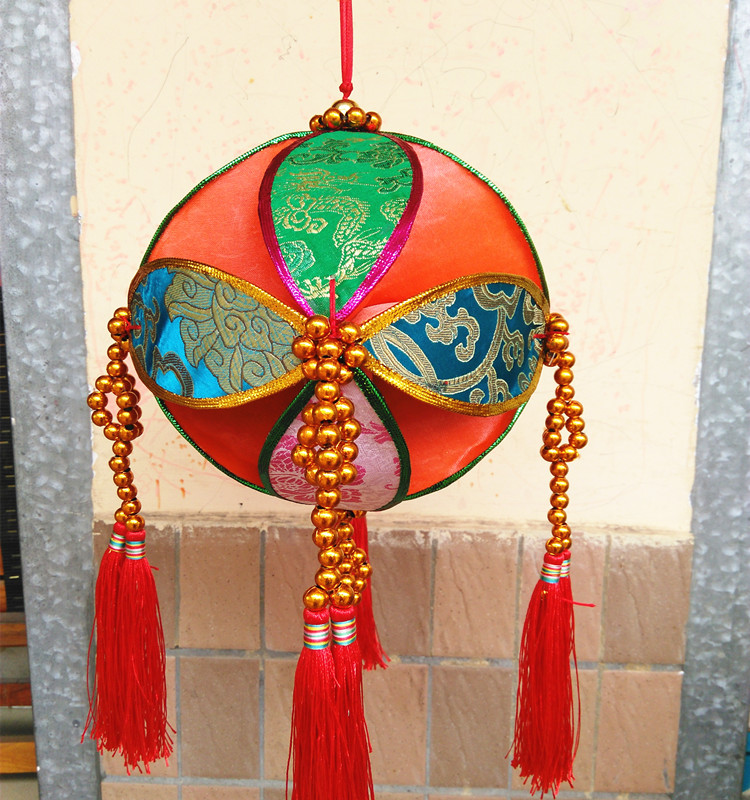xiuqiu: (129, 130, 552, 514)
